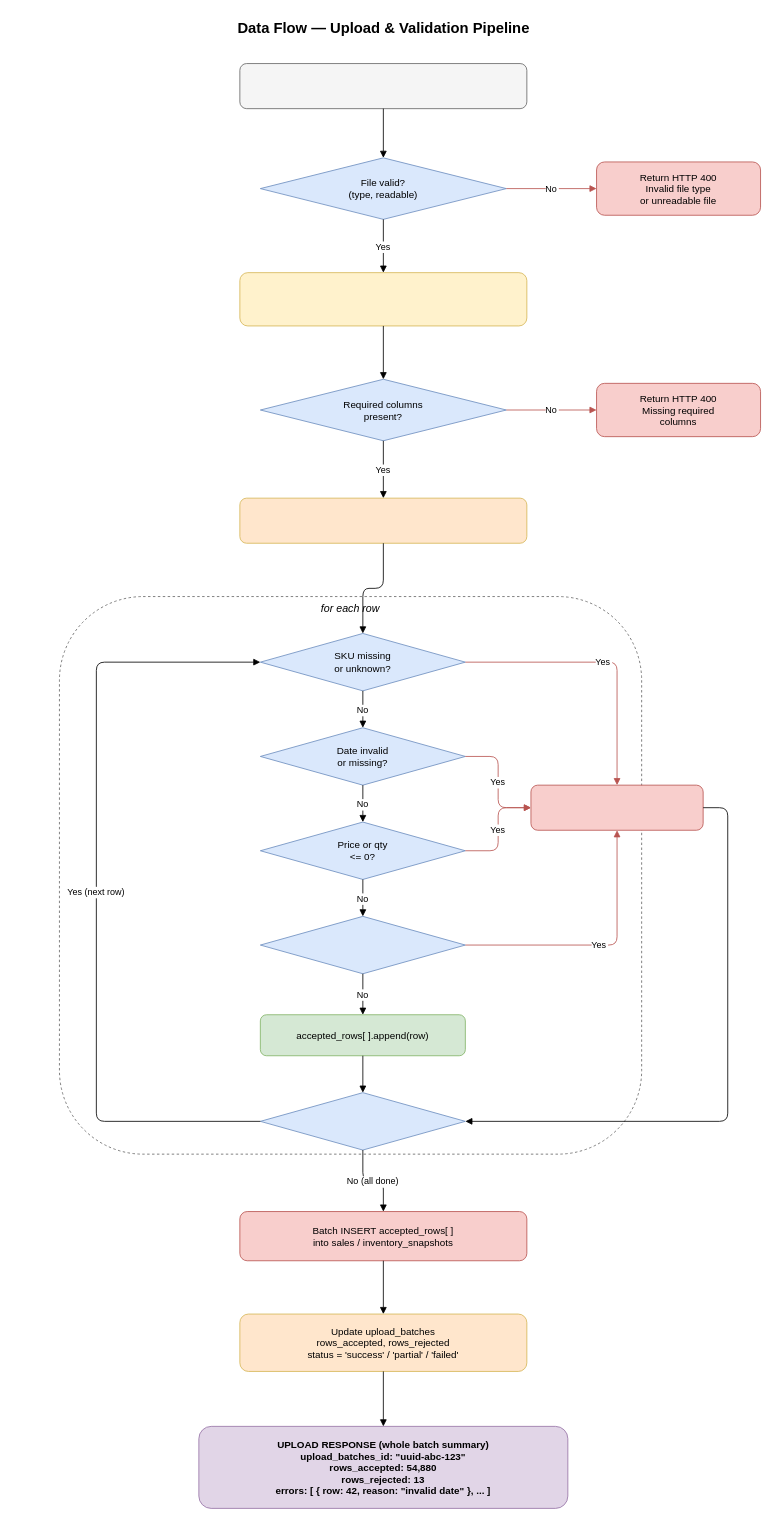
Image size: 775x1523. Some labels were removed from this diagram. The box of each missing label's shape, as (x1, y1, x2, y2) in pixels:
Create upload_batches row status = 'processing': (239, 497, 527, 543)
CSV / Excel file uploaded POST /upload/sales or /upload/inventory: (239, 63, 527, 109)
Duplicate row (same SKU + date)?: (260, 916, 465, 974)
errors[ ].append( { row_number, reason }): (530, 784, 703, 830)
More rows?: (260, 1092, 465, 1150)
Parser (app/parsers/) Read file → pandas DataFrame normalise column headers: (239, 272, 527, 326)
